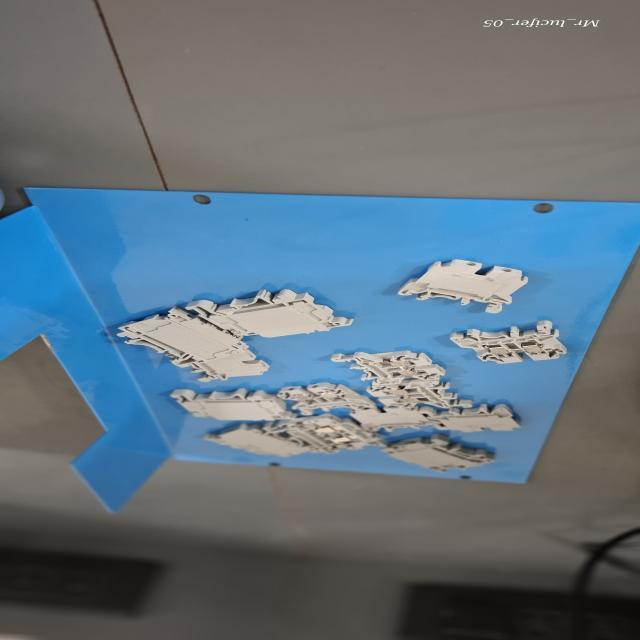Inverted: (391, 253, 533, 317)
Pass: (434, 318, 574, 366), (326, 350, 447, 388), (358, 376, 477, 410), (272, 382, 378, 416)
